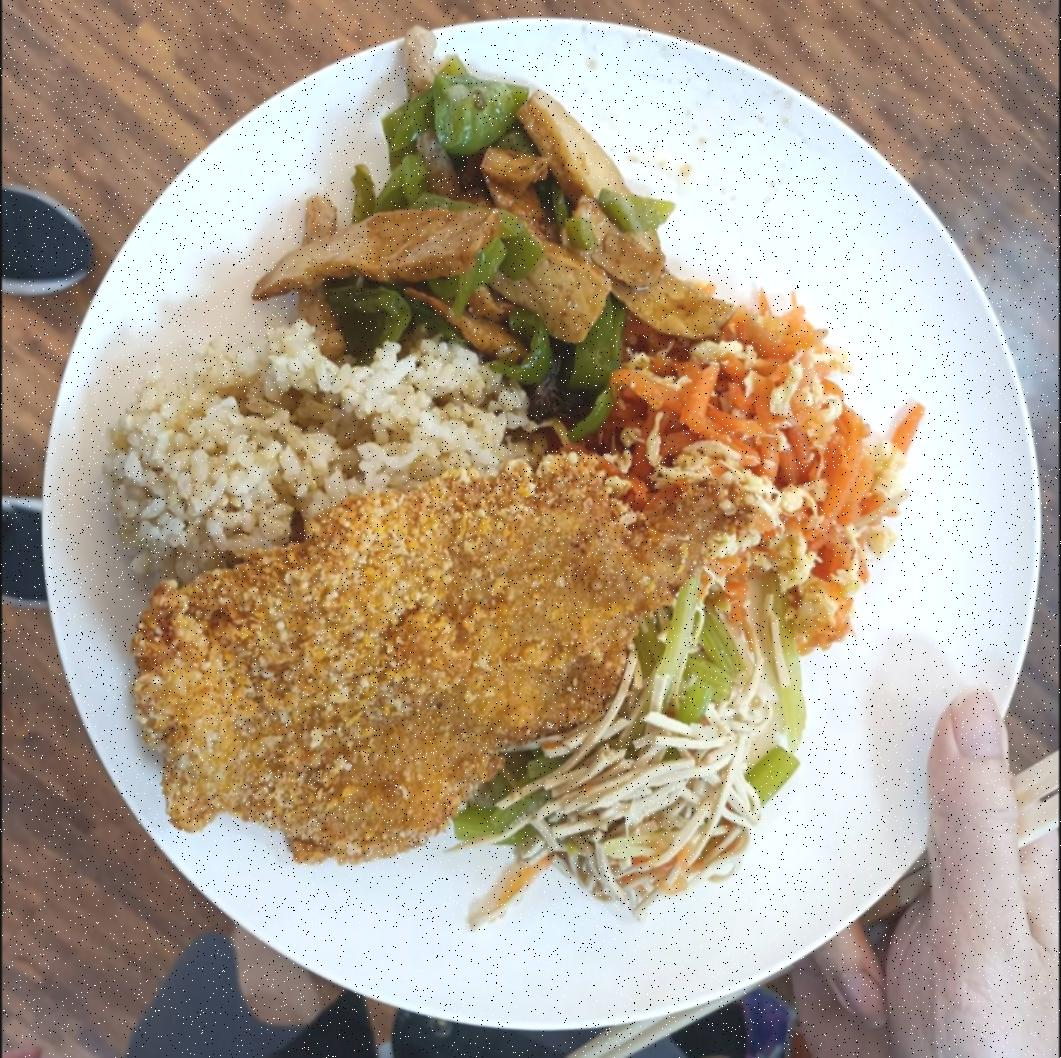big fried chicken leg: (27, 13, 1046, 1041)
box: (111, 329, 524, 560)
braised fish fillet: (251, 56, 718, 404), (456, 619, 802, 932), (620, 284, 900, 646)
braised pork: (139, 454, 669, 874)
